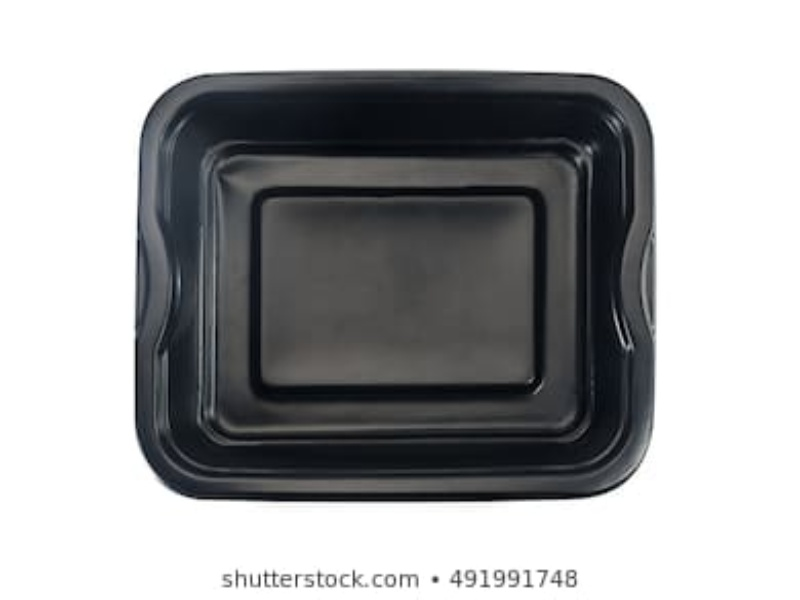plastic-tray: (130, 70, 662, 505)
